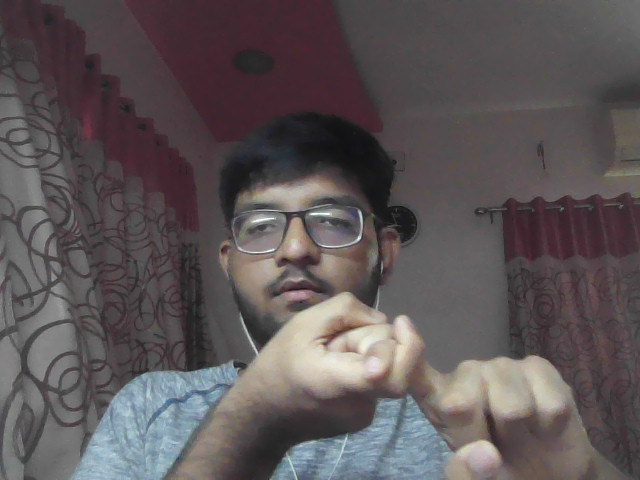મિત્ર: (238, 283, 608, 480)
